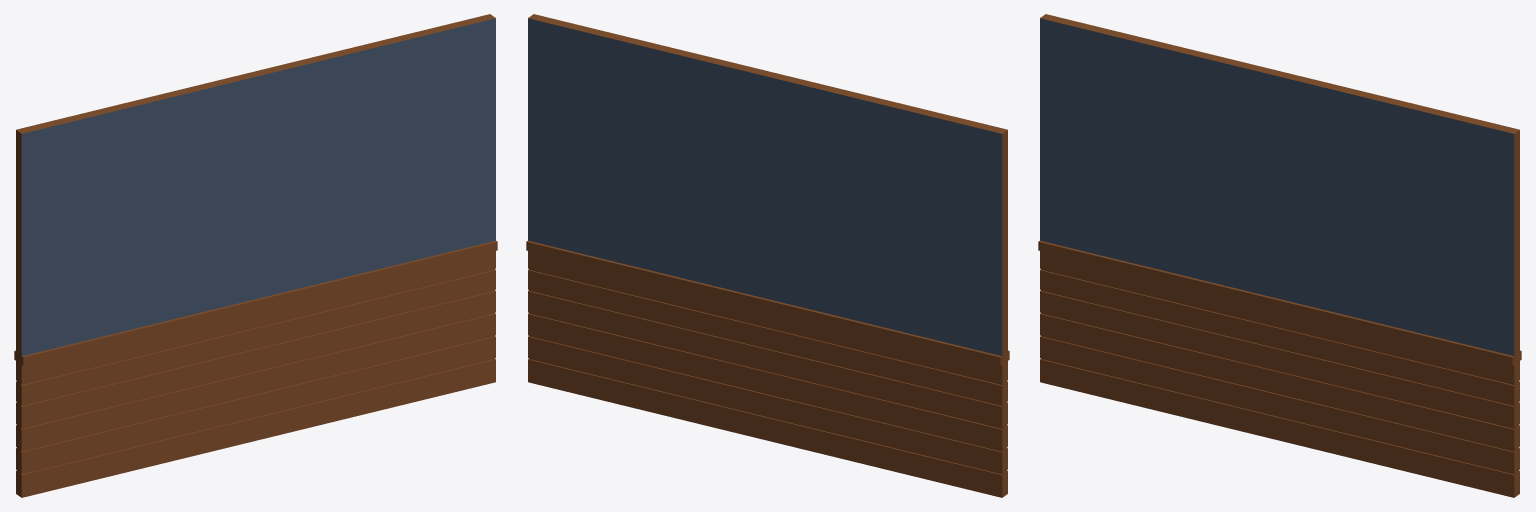
The model's file is ww_interior_wall.glb.
The picture shows the model from 3 angles, left to right: view 1: azimuth 30°, elevation 25°; view 2: azimuth 150°, elevation 25°; view 3: azimuth 330°, elevation 25°; orthographic projection.
Parts seen in each view (by area): view 1: Int_Wall; view 2: Int_Wall; view 3: Int_Wall.
Boxes of the visible parts, box(x1,y1,x2,y2) form: Int_Wall: box(14, 14, 497, 497); Int_Wall: box(526, 14, 1009, 497); Int_Wall: box(1038, 14, 1521, 497).
Bounding box in the file's own units: 4.8 × 3.52 × 0.16.
